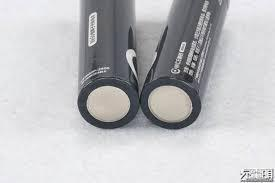AA: (140, 0, 232, 132), (76, 0, 139, 131)
